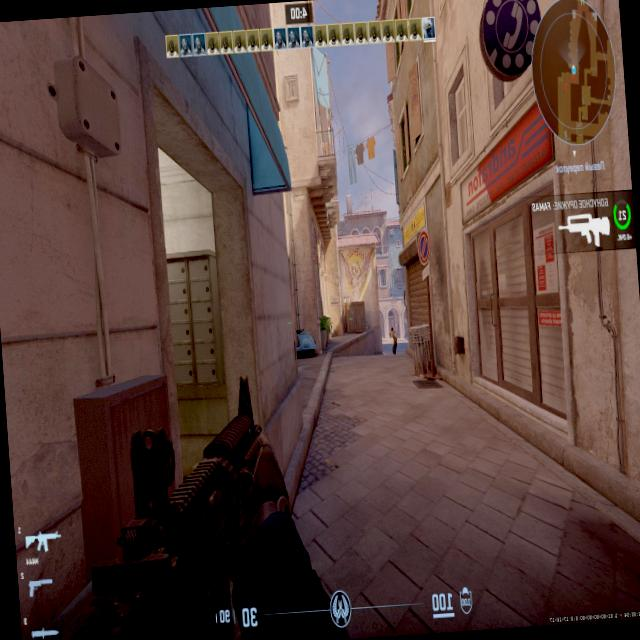T: (389, 328, 395, 354)
T_heat: (391, 329, 393, 332)
